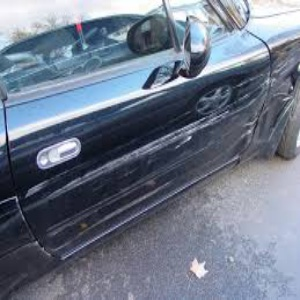door_scratch: (95, 112, 255, 196)
